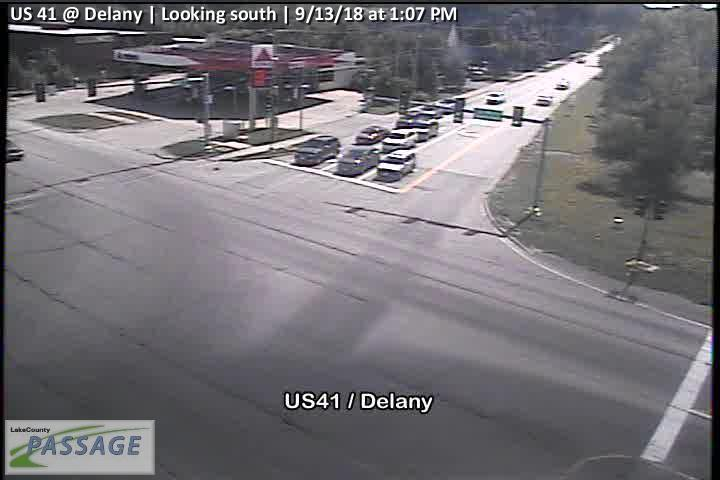SUV: (296, 134, 341, 165), (337, 145, 379, 176), (377, 149, 417, 181), (411, 117, 440, 143), (383, 128, 419, 148), (484, 91, 506, 104)
Sedan: (356, 125, 390, 145), (536, 94, 554, 107), (555, 79, 571, 89)
